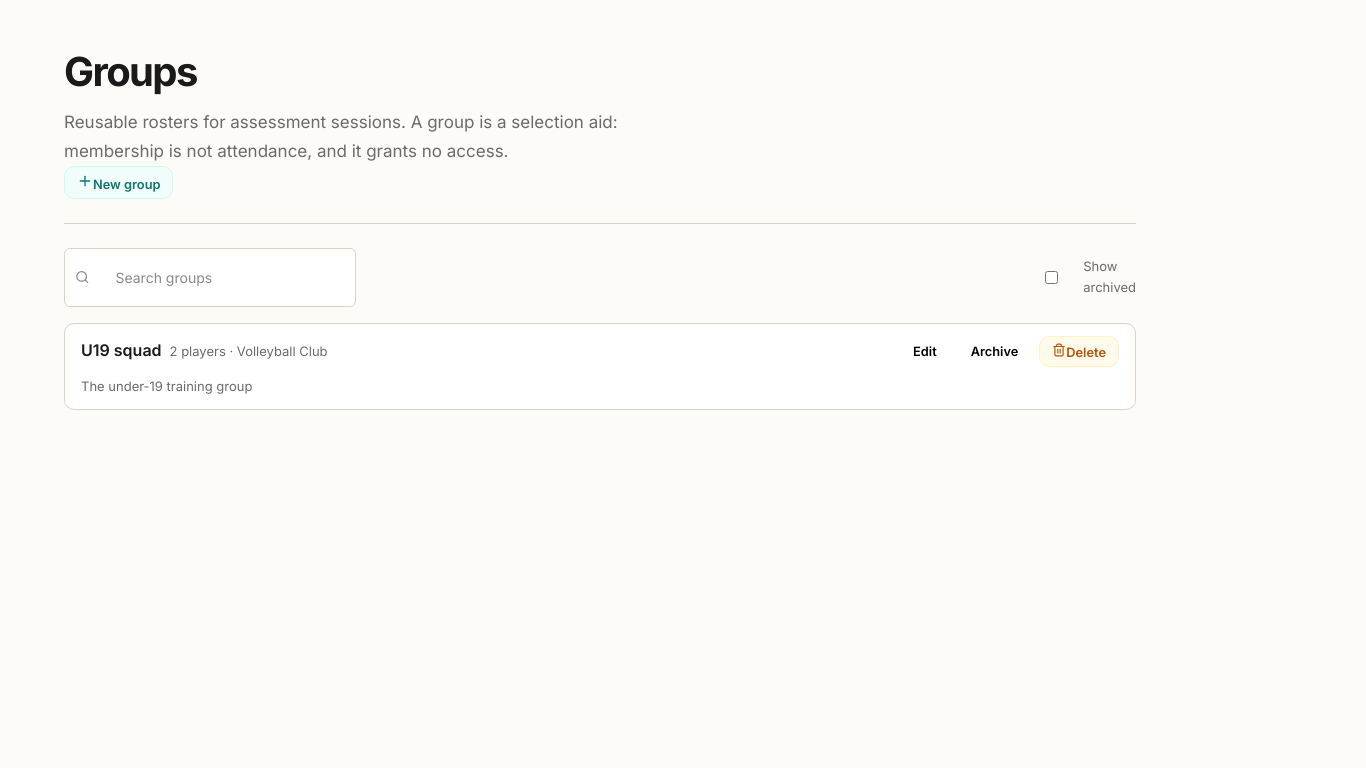
Groups editor › cannot submit a nameless group
Expected: the link "U19 squad" is shown, left=81, top=338, right=162, bottom=364
Step 1. Click the button "New group" → [119, 182], box left=64, top=166, right=174, bottom=199
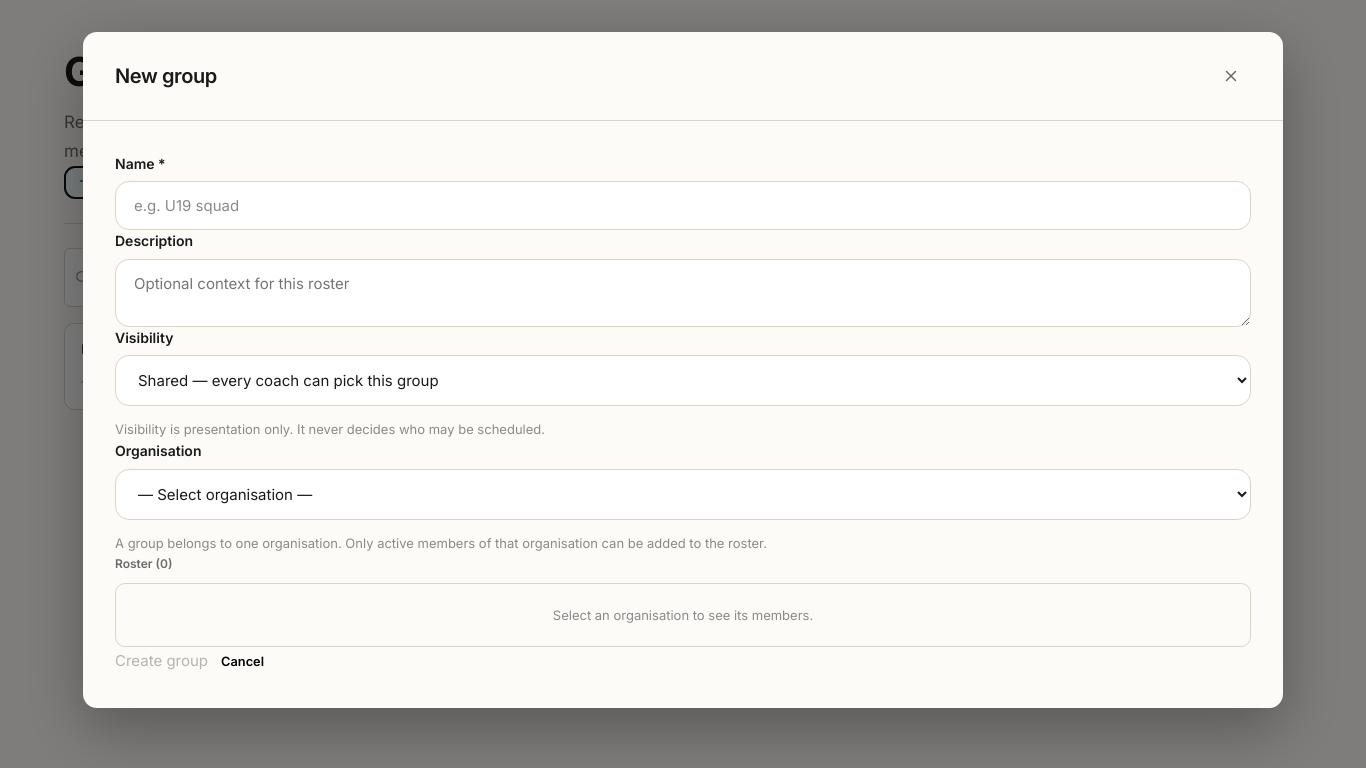
Expected: the button "Create group" is disabled, left=115, top=651, right=208, bottom=670
